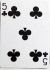five: (1, 1, 48, 68)
